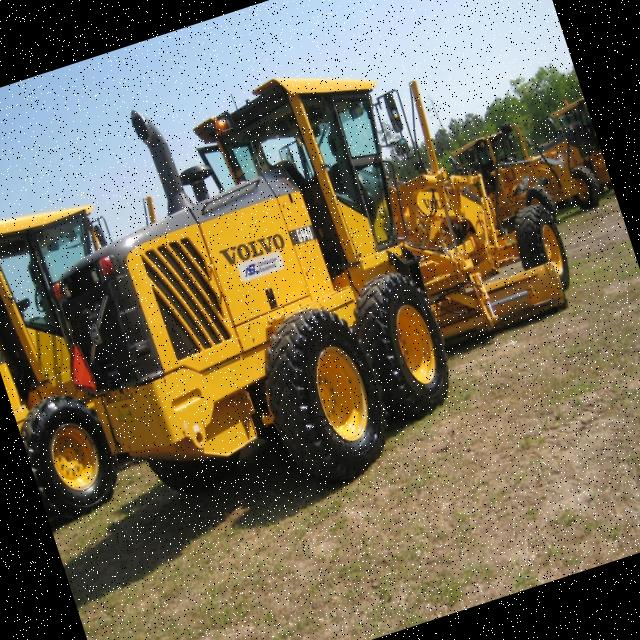Grader: (0, 0, 622, 575)
